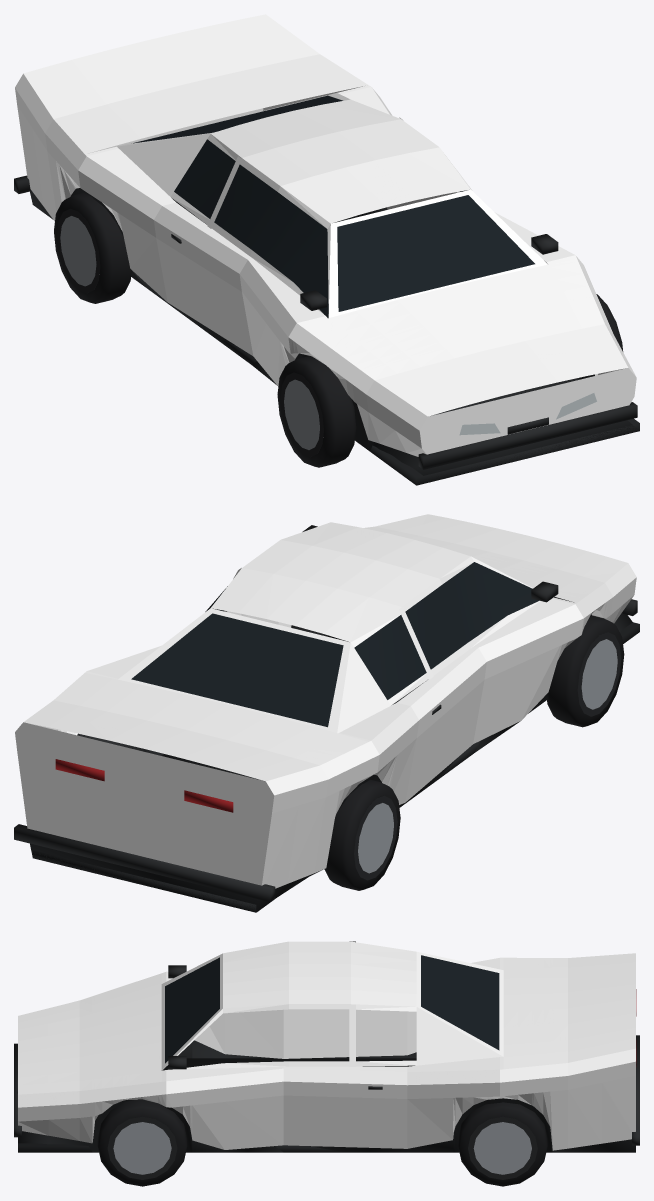
The model's file is taurenza_pinaculo.glb.
3 views of the same model, one above another, from view 1: azimuth 30°, elevation 25°; view 2: azimuth 150°, elevation 25°; view 3: azimuth 270°, elevation 25° (orthographic). The views are drawn at different scales.
Parts seen in each view (by area): view 1: Body_Paint, Body_Details, Mount_FrontLeft_Wheel_Details, Mount_RearLeft_Wheel_Details; view 2: Body_Paint, Body_Details, Mount_RearLeft_Wheel_Details, Mount_FrontLeft_Wheel_Details; view 3: Body_Paint, Body_Details, Mount_FrontRight_Wheel_Details, Mount_RearRight_Wheel_Details.
Part boxes in pixels (bbox=[...]): Body_Paint: bbox=[15, 14, 636, 456]; Body_Details: bbox=[14, 95, 639, 485]; Mount_FrontLeft_Wheel_Details: bbox=[277, 356, 356, 467]; Mount_RearLeft_Wheel_Details: bbox=[54, 193, 131, 303]; Body_Paint: bbox=[15, 514, 636, 888]; Body_Details: bbox=[14, 525, 639, 912]; Mount_RearLeft_Wheel_Details: bbox=[324, 780, 400, 890]; Mount_FrontLeft_Wheel_Details: bbox=[546, 615, 624, 727]; Body_Paint: bbox=[18, 941, 635, 1150]; Body_Details: bbox=[14, 955, 639, 1152]; Mount_FrontRight_Wheel_Details: bbox=[97, 1099, 187, 1186]; Mount_RearRight_Wheel_Details: bbox=[458, 1102, 547, 1186].
Bounding box in the file's own units: 1.97 × 1.24 × 4.39.
Materials: 2 (1 with a texture image).
